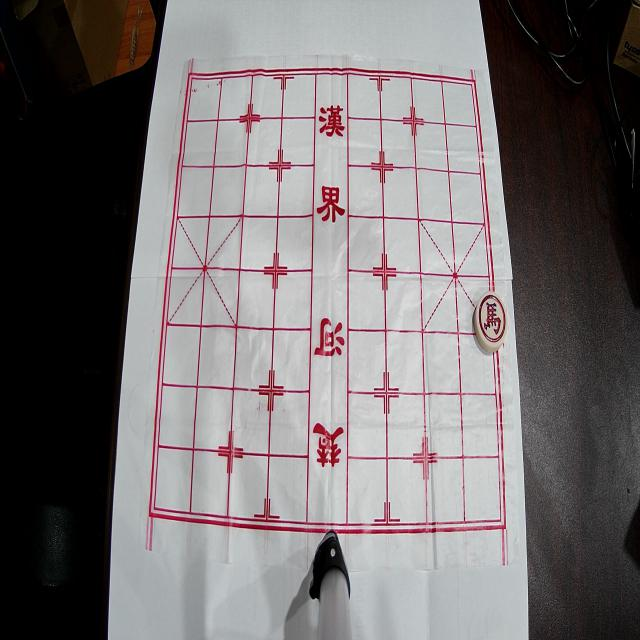red-horse: (474, 290, 508, 352)
